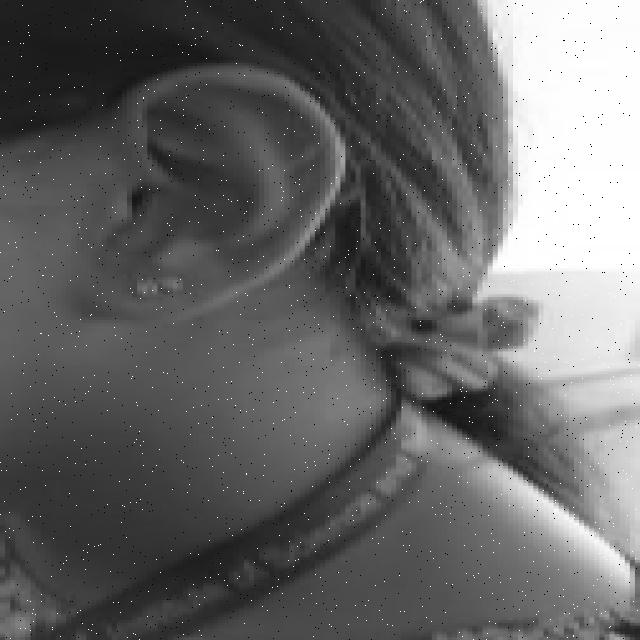ear: (76, 66, 340, 317)
